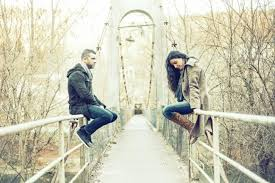Caution: (66, 47, 207, 148)
